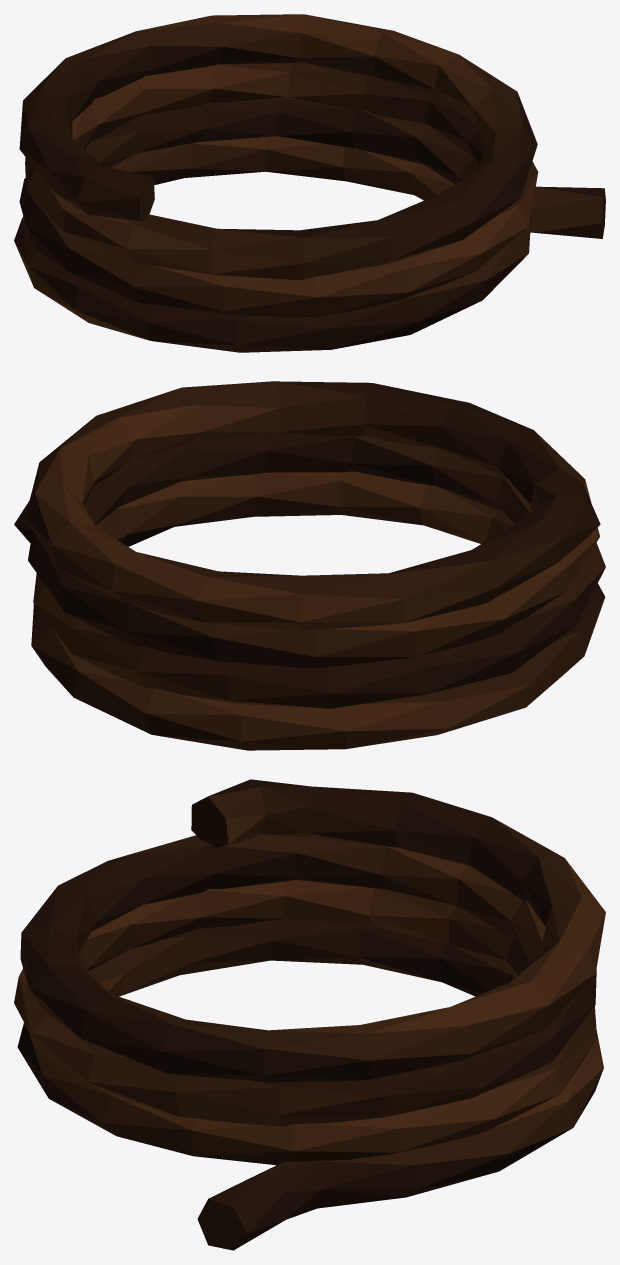
The model's file is Rope Coil.obj.
3 renders of one model, top to bottom at view 1: azimuth 30°, elevation 25°; view 2: azimuth 150°, elevation 25°; view 3: azimuth 270°, elevation 25°, orthographic. The views are drawn at different scales.
Parts seen in each view (by area): view 1: Rope_Coil.Static; view 2: Rope_Coil.Static; view 3: Rope_Coil.Static.
Part boxes in pixels (x1,y1,x2,y2): Rope_Coil.Static: [14, 14, 605, 352]; Rope_Coil.Static: [14, 381, 605, 750]; Rope_Coil.Static: [14, 779, 605, 1250].
Bounding box in the file's own units: 1.04 × 0.329 × 0.8883.
